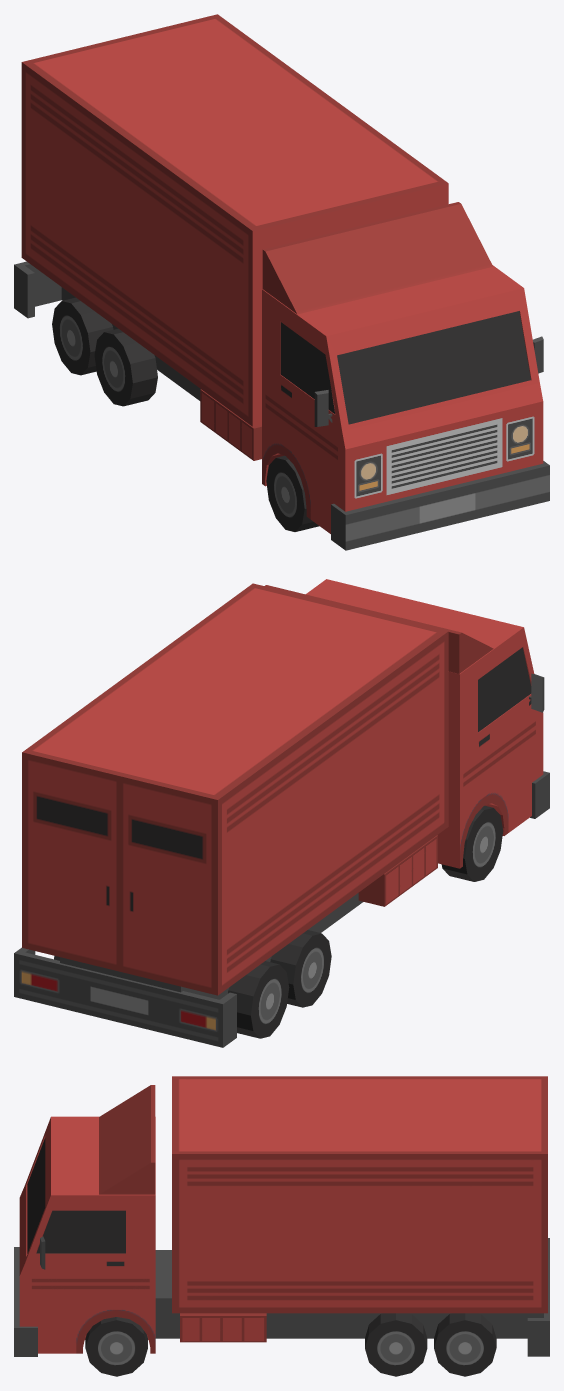
Rendered from vehicle-container-color03.glb.
3 views of the same model, one above another, from view 1: azimuth 30°, elevation 25°; view 2: azimuth 150°, elevation 25°; view 3: azimuth 270°, elevation 25° (orthographic). The views are drawn at different scales.
Parts seen in each view (by area): view 1: model; view 2: model; view 3: model.
Part boxes in pixels (left/top/right/bottom): model: left=14, top=14, right=549, bottom=550; model: left=14, top=579, right=549, bottom=1047; model: left=14, top=1076, right=549, bottom=1376.
Size of the model in its own units: 3.63 by 4.16 by 9.09.
1 material, 1 textured.
